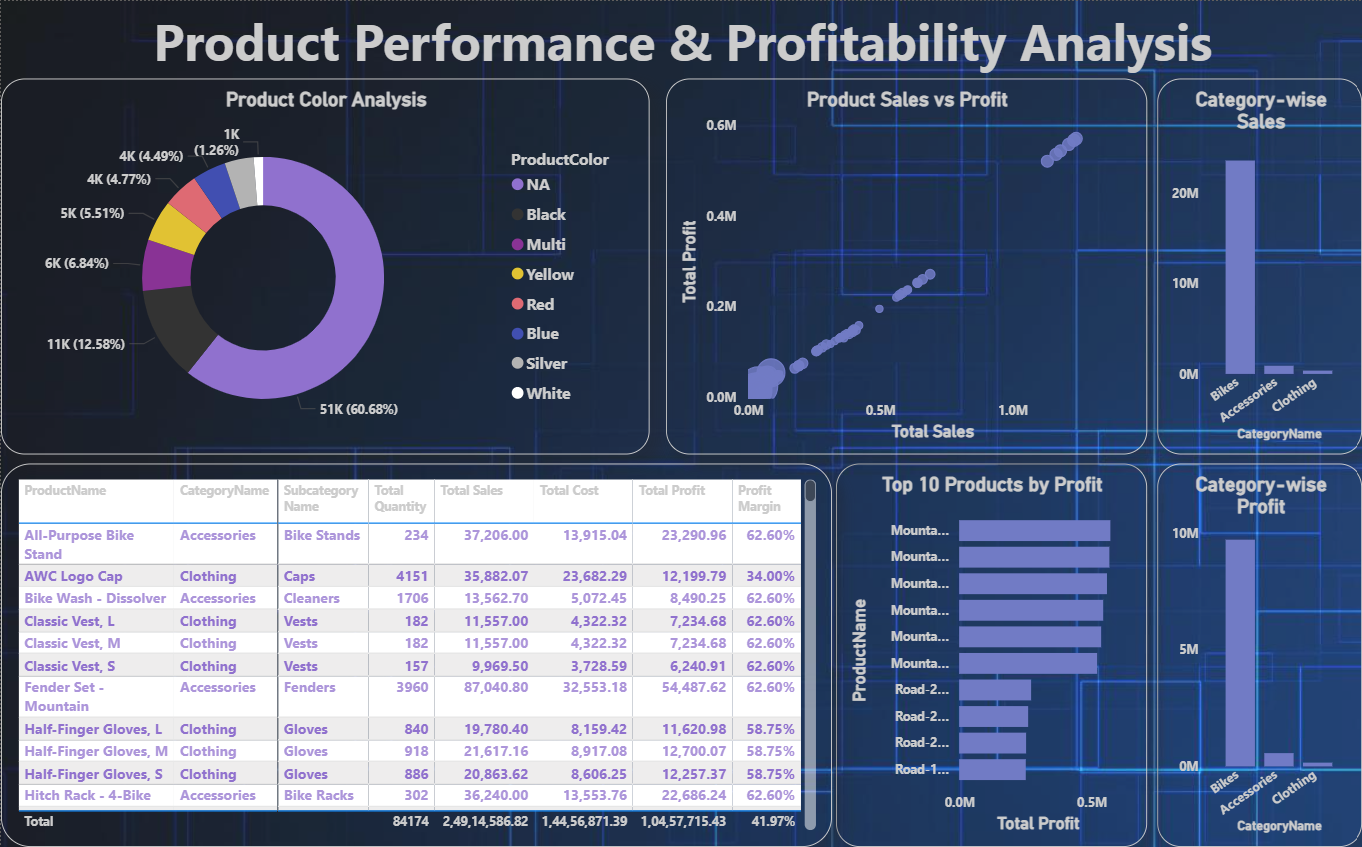

Layout of this report page (visuals, bound fields, positions):
{"tool":"powerbi","page":{"name":"Product & Category Analysis","canvas":[1160,720],"ordinal":1},"visuals":[{"type":"textbox","box":[120.1,0,920.1,78.6],"z":0},{"type":"clusteredColumnChart","title":"Category-wise Sales","fields":{"Category":["Product Categories.CategoryName"],"Y":["Final Sales.Total Sales"]},"box":[984,66,175.5,320.2],"z":1000},{"type":"columnChart","title":"Category-wise Profit","fields":{"Category":["Product Categories.CategoryName"],"Y":["Final Sales.Total Profit"]},"box":[984,393.6,175.5,326.6],"z":2000},{"type":"clusteredBarChart","title":"Top 10 Products by Profit","fields":{"Category":["Products.ProductName"],"Y":["Final Sales.Total Profit"]},"box":[710.6,393.6,264.9,326.6],"z":3000},{"type":"scatterChart","title":"Product Sales vs Profit","fields":{"X":["Final Sales.Total Sales"],"Y":["Final Sales.Total Profit"],"Size":["Final Sales.Total Quantity"],"Category":["Products.ProductName"]},"box":[566,66,409.6,320.2],"z":4000},{"type":"donutChart","title":"Product Color Analysis","fields":{"Category":["Products.ProductColor"],"Y":["Final Sales.Total Quantity"]},"box":[0,66,552.1,320.2],"z":5000},{"type":"tableEx","fields":{"Values":["Products.ProductName","Product Categories.CategoryName","Product Subcategories.SubcategoryName","Final Sales.Total Quantity","Final Sales.Total Sales","Final Sales.Total Cost","Final Sales.Total Profit","Final Sales.Profit Margin"]},"box":[0,393.6,707.4,326.6],"z":6000}]}

Visuals, with their boxes in screenshot pixels (x1, y1, x2, y2), scaled from the page's 1160x720 canvas onto the 1362x847 screenshot:
textbox: pyautogui.locateOnScreen(141, 0, 1221, 92)
"Category-wise Sales" clusteredColumnChart: pyautogui.locateOnScreen(1155, 78, 1361, 454)
"Category-wise Profit" columnChart: pyautogui.locateOnScreen(1155, 463, 1361, 846)
"Top 10 Products by Profit" clusteredBarChart: pyautogui.locateOnScreen(834, 463, 1145, 846)
"Product Sales vs Profit" scatterChart: pyautogui.locateOnScreen(665, 78, 1145, 454)
"Product Color Analysis" donutChart: pyautogui.locateOnScreen(0, 78, 648, 454)
tableEx - Products.ProductName x Product Categories.CategoryName: pyautogui.locateOnScreen(0, 463, 831, 846)
